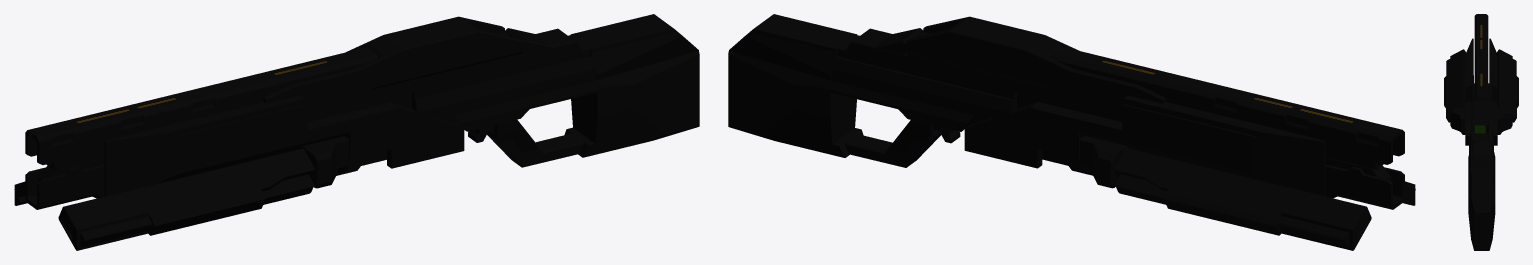
The model's file is Shotgun.fbx.
3 renders of one model, left to right at view 1: azimuth 30°, elevation 25°; view 2: azimuth 150°, elevation 25°; view 3: azimuth 270°, elevation 25°, orthographic. The views are drawn at different scales.
Visible parts, largest first — view 1: Shotgun, U_Shotgun_Bolt_Rotator_L, Shotgun_Bolt_L; view 2: Shotgun, U_Shotgun_Bolt_Rotator_R, Shotgun_Bolt_R; view 3: Shotgun, U_Shotgun_Bolt_Rotator_L, U_Shotgun_Bolt_Rotator_R, Shotgun_Bolt_L, Shotgun_Bolt_R.
Boxes of the visible parts, x1=… form: Shotgun: x1=25, y1=14, x2=699, y2=209; U_Shotgun_Bolt_Rotator_L: x1=58, y1=148, x2=315, y2=250; Shotgun_Bolt_L: x1=301, y1=136, x2=349, y2=188; Shotgun: x1=728, y1=14, x2=1404, y2=209; U_Shotgun_Bolt_Rotator_R: x1=1114, y1=148, x2=1371, y2=250; Shotgun_Bolt_R: x1=1080, y1=136, x2=1127, y2=188; Shotgun: x1=1465, y1=14, x2=1497, y2=250; U_Shotgun_Bolt_Rotator_L: x1=1444, y1=49, x2=1466, y2=122; U_Shotgun_Bolt_Rotator_R: x1=1496, y1=49, x2=1518, y2=122; Shotgun_Bolt_L: x1=1450, y1=108, x2=1465, y2=134; Shotgun_Bolt_R: x1=1497, y1=108, x2=1512, y2=134.
Size of the model in its own units: 887 by 195 by 173.
Materials: 1 (1 with a texture image).
